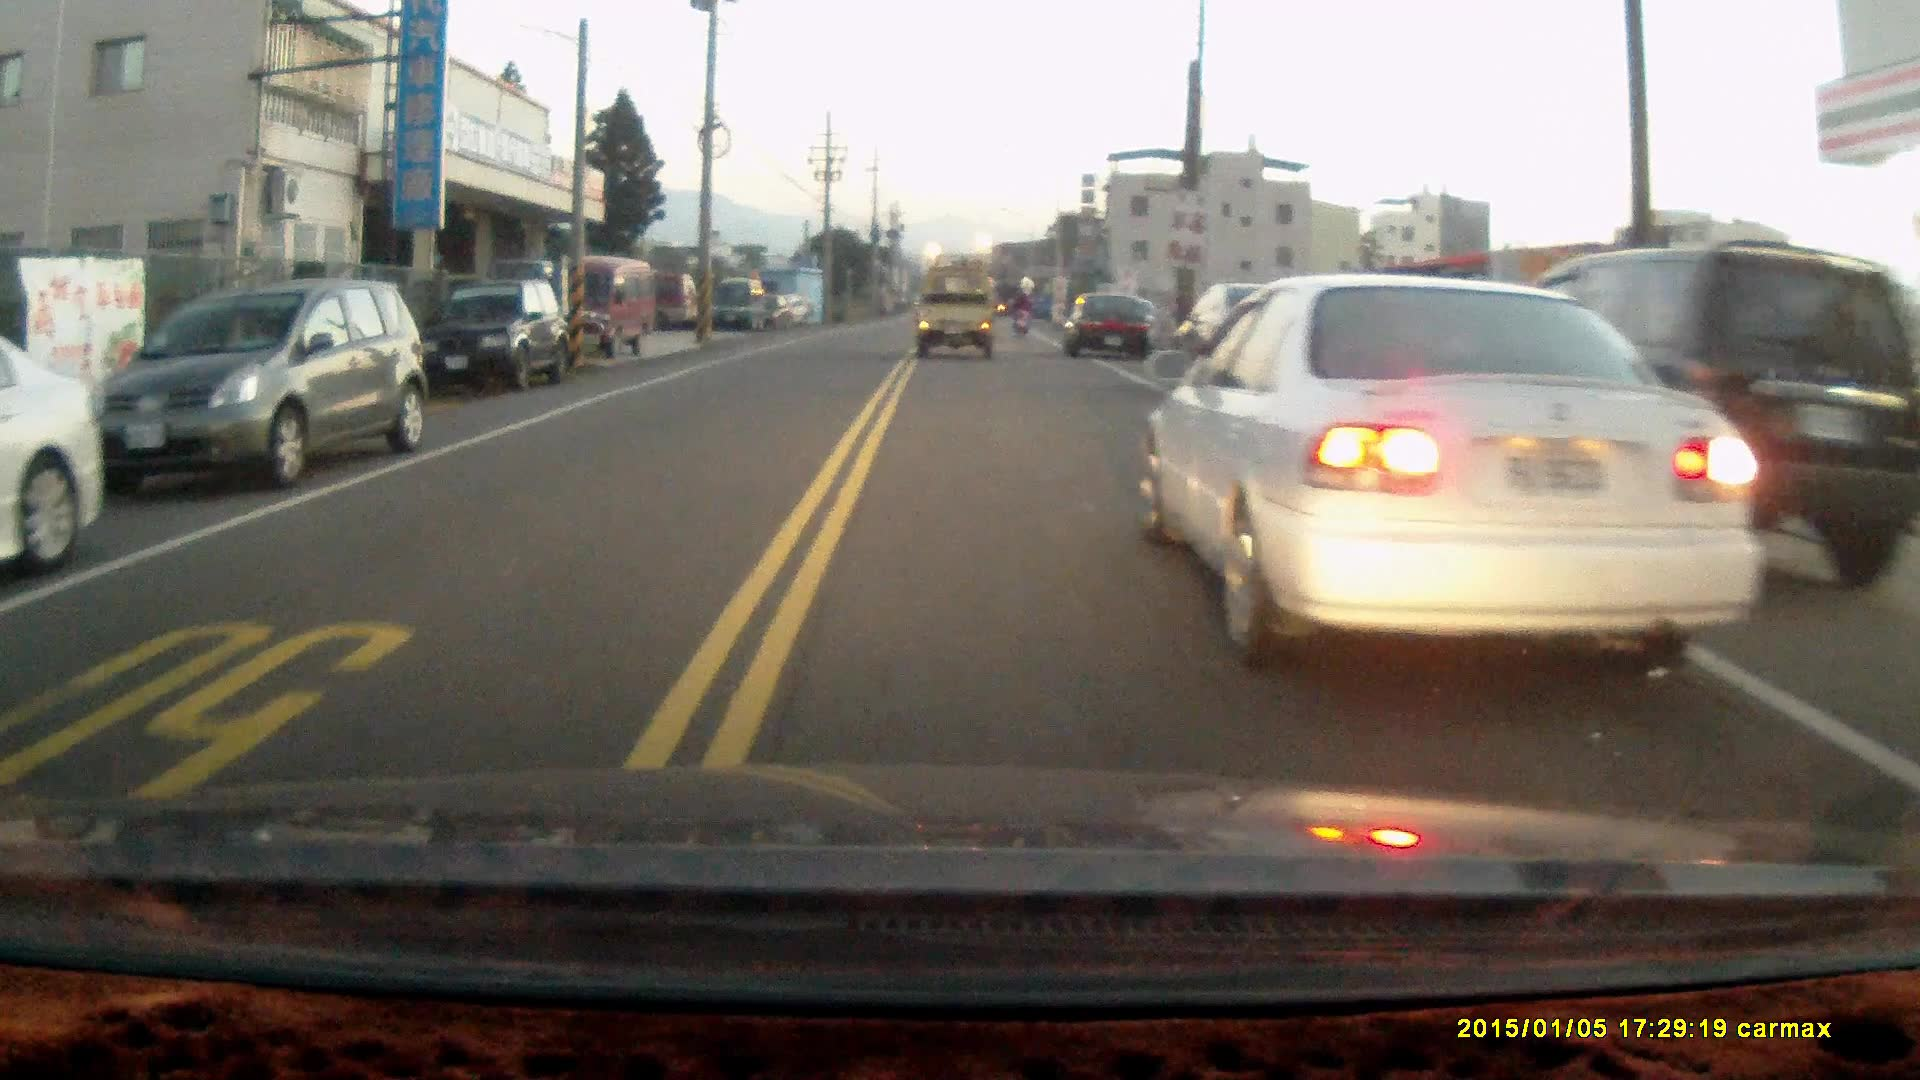rider: (1008, 287, 1035, 335)
vehicle: (1135, 270, 1766, 663), (1479, 247, 1910, 604), (90, 276, 429, 488), (1, 306, 104, 573), (441, 274, 569, 396), (551, 257, 667, 356), (925, 270, 1000, 358), (1065, 294, 1160, 363), (713, 277, 773, 329)
